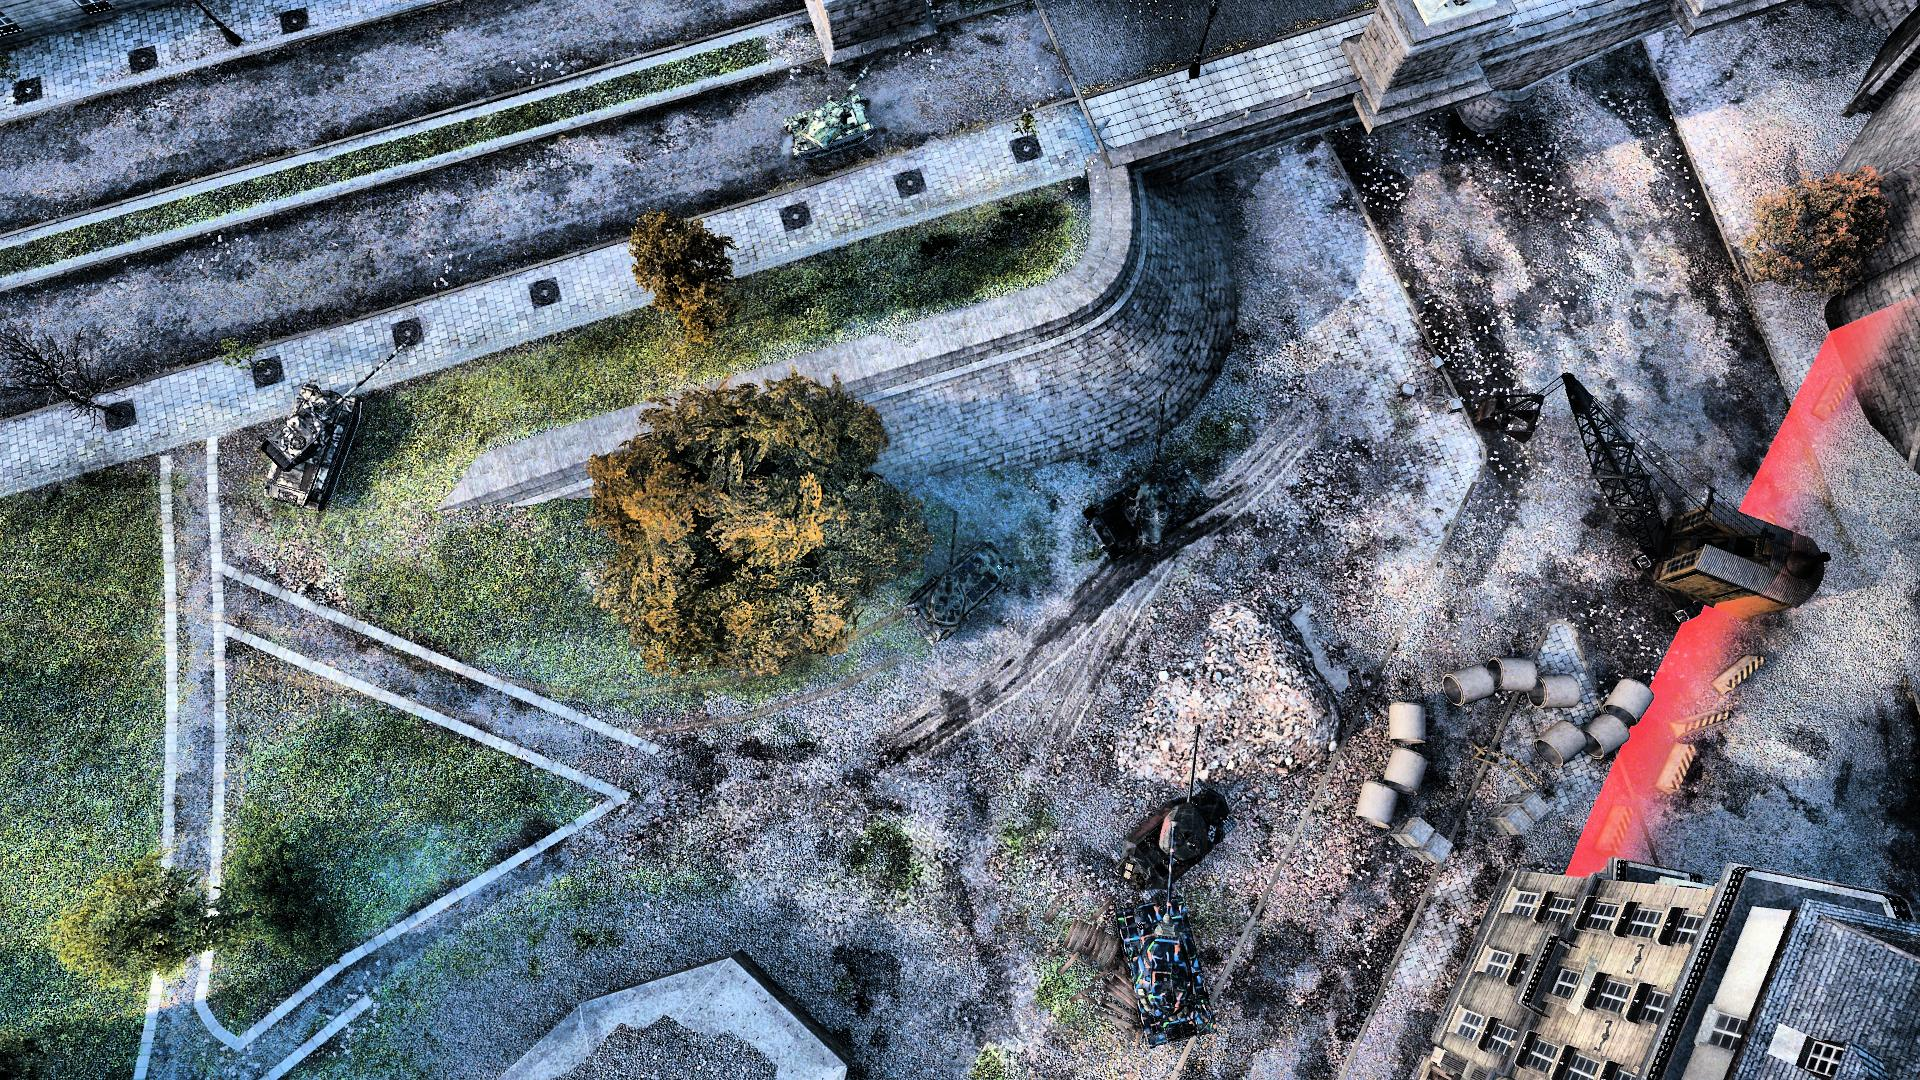military-vehicle: (260, 339, 410, 512), (1084, 392, 1212, 563), (1122, 820, 1215, 1048), (1122, 727, 1228, 889), (907, 513, 1002, 642), (782, 58, 886, 152)
